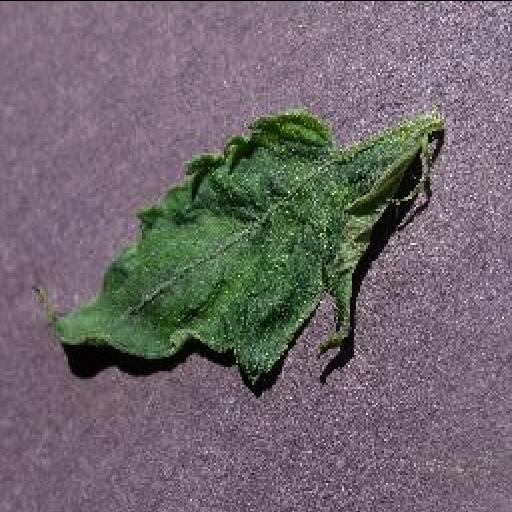Mosaic Virus: (48, 109, 400, 387)
